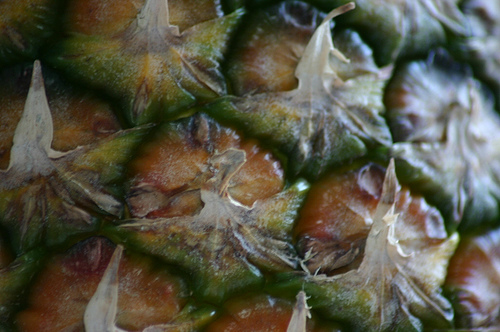pineapple: (1, 0, 499, 330)
